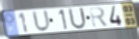1: (58, 9, 69, 32), (19, 12, 30, 33)
4: (109, 5, 124, 28)
R: (88, 6, 110, 29)
U: (31, 9, 52, 33), (67, 7, 88, 31)
